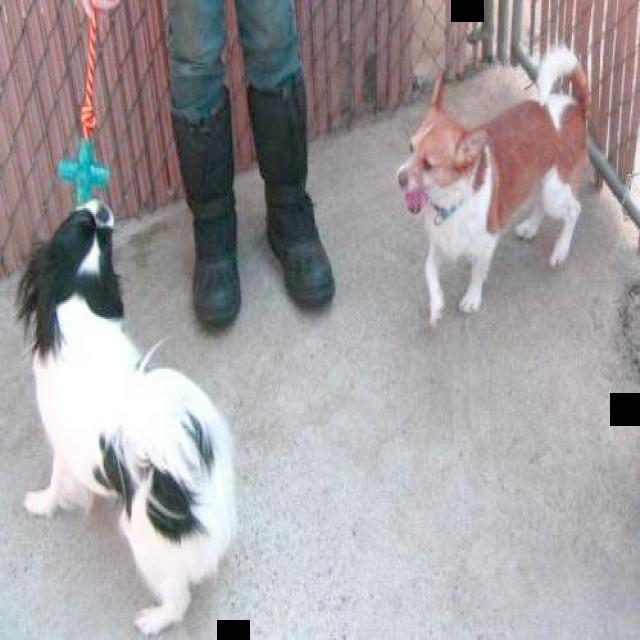adult_dog: (20, 204, 233, 637), (396, 46, 591, 327)
non-dog: (167, 0, 335, 334)
